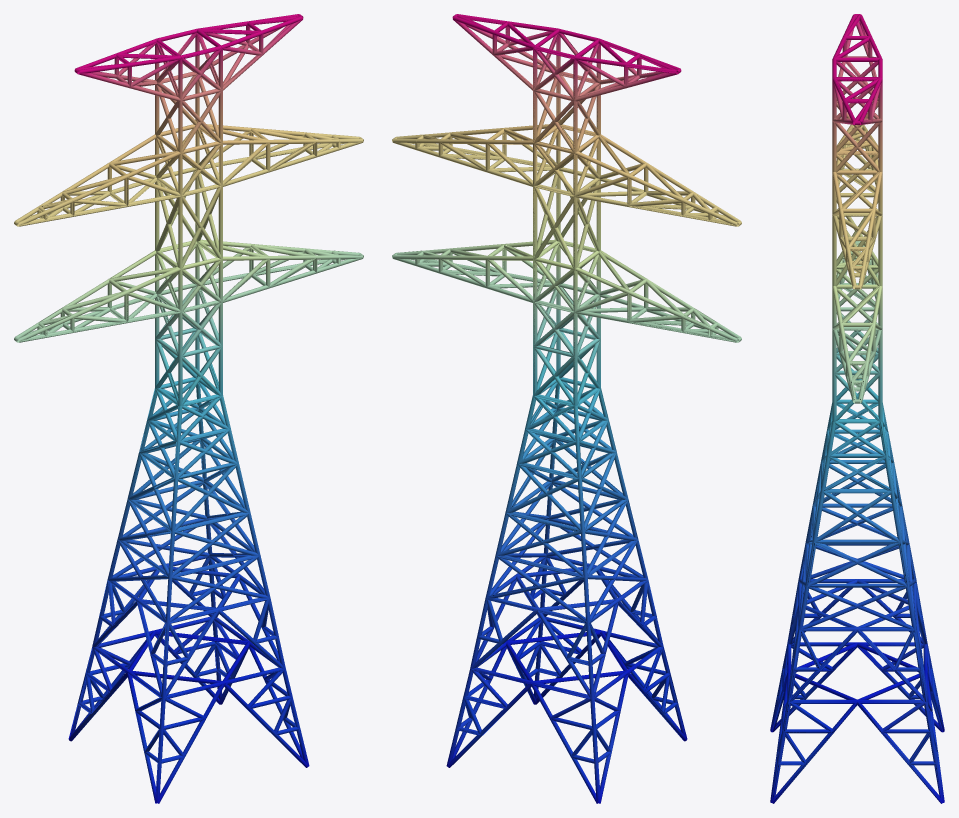
3 renders of one model, left to right at view 1: azimuth 30°, elevation 25°; view 2: azimuth 150°, elevation 25°; view 3: azimuth 270°, elevation 25°, orthographic.
Parts seen in each view (by area): view 1: Predefinito; view 2: Predefinito; view 3: Predefinito.
Boxes of the visible parts, x1,y1,x2,y2 form: Predefinito: (14, 14, 363, 803); Predefinito: (392, 14, 741, 803); Predefinito: (770, 14, 944, 803).
Bounding box in the file's own units: 0.6919 × 1.36 × 0.3064.
